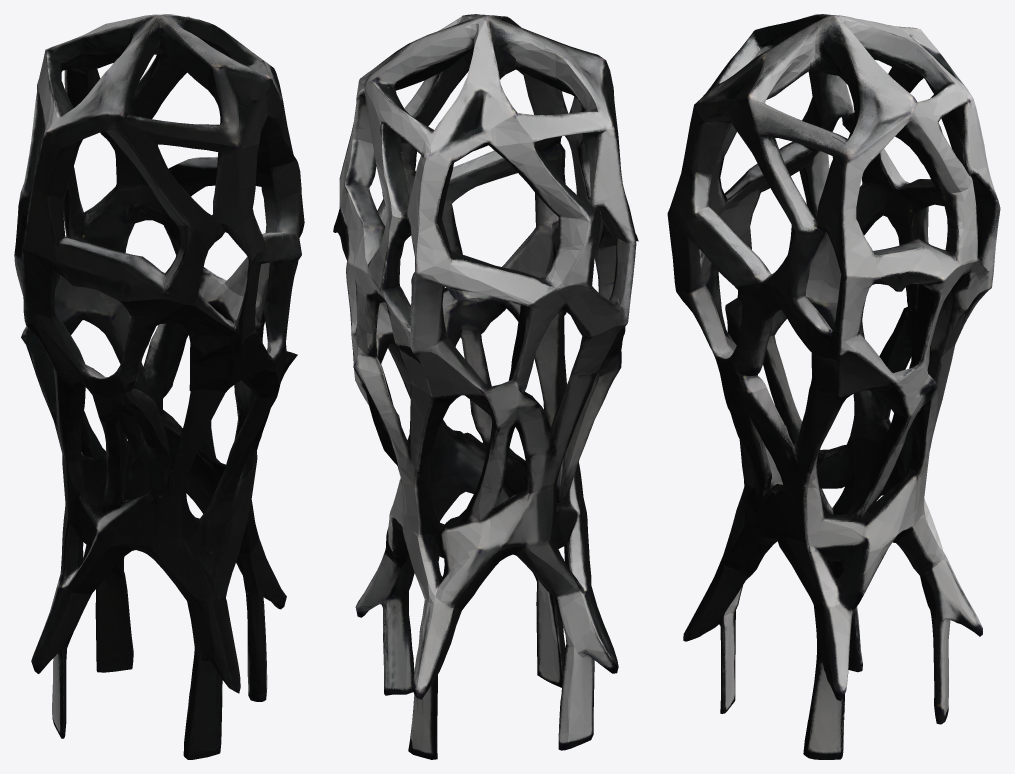
The model's file is sample.glb.
3 renders of one model, left to right at view 1: azimuth 30°, elevation 25°; view 2: azimuth 150°, elevation 25°; view 3: azimuth 270°, elevation 25°, orthographic.
Parts seen in each view (by area): view 1: world; view 2: world; view 3: world.
Boxes of the visible parts, x1,y1,x2,y2 form: world: [14, 14, 304, 759]; world: [333, 14, 638, 759]; world: [667, 14, 1000, 759].
Size of the model in its own units: 0.4268 by 1 by 0.4325.
Materials: 1 (1 with a texture image).
